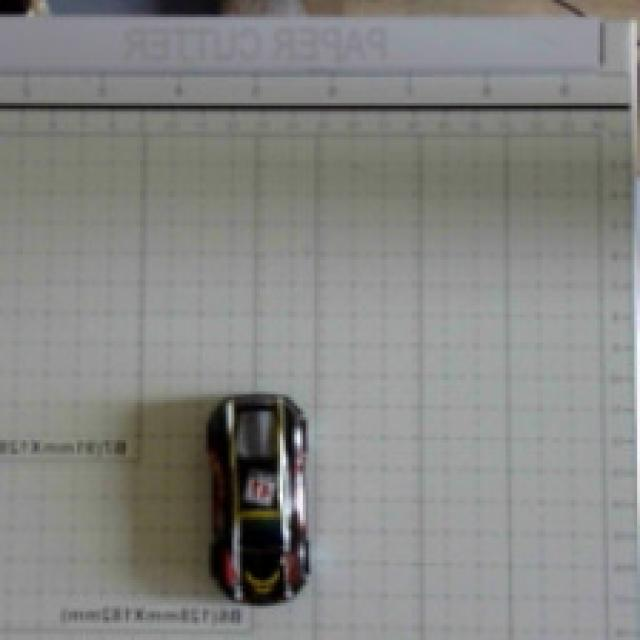Red Car: (185, 359, 373, 622)
